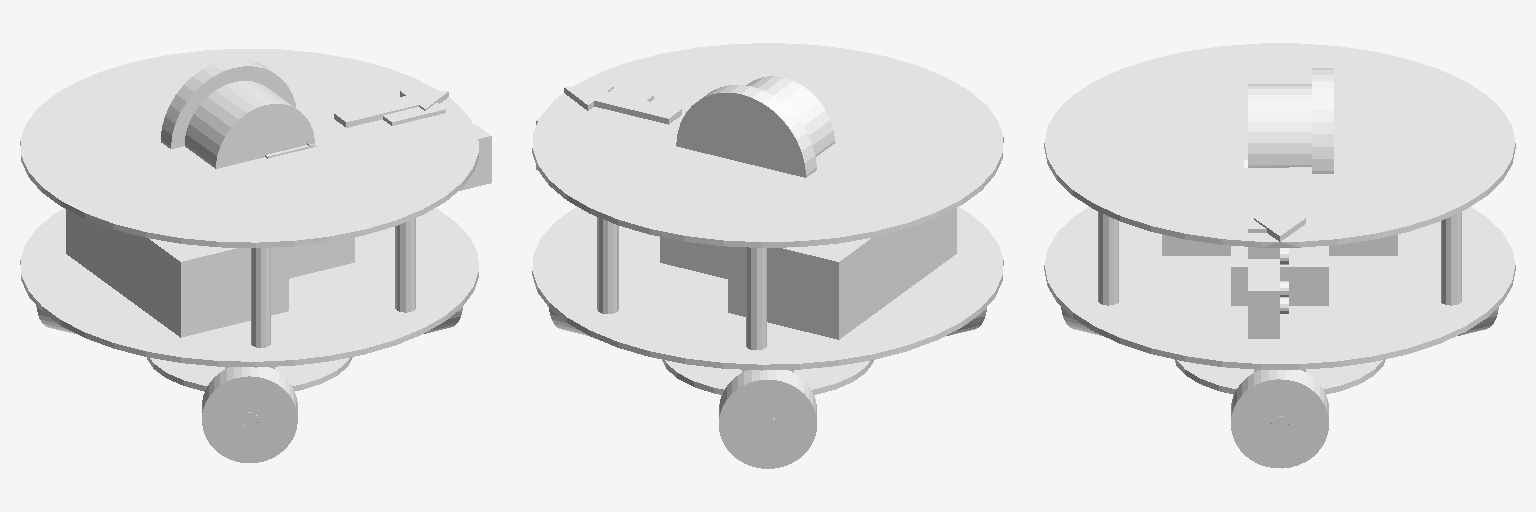
The robot description file, URDF, robot "tribot_description":
<?xml version="1.0" encoding="utf-8"?>
<!-- This URDF was automatically created by SolidWorks to URDF Exporter! Originally created by [author] ([email redacted]) 
     Commit Version: 1.6.0-4-g7f85cfe  Build Version: 1.6.7995.38578
     For more information, please see http://wiki.ros.org/sw_urdf_exporter -->
<robot
  name="tribot_description">
  <link
    name="base_link">
    <inertial>
      <origin
        xyz="-0.0142603857901154 0.0599787969233426 1.44010907857361E-17"
        rpy="0 0 0" />
      <mass
        value="0.664049355983333" />
      <inertia
        ixx="0.0018092011652393"
        ixy="5.86355846547153E-05"
        ixz="-6.25148858144493E-19"
        iyy="0.00242024125021245"
        iyz="6.82341546852814E-19"
        izz="0.00185445818753784" />
    </inertial>
    <visual>
      <origin
        xyz="0 0 0"
        rpy="0 0 0" />
      <geometry>
        <mesh
          filename="package://tribot_description/meshes/base_link.STL" />
      </geometry>
      <material
        name="">
        <color
          rgba="1 1 1 1" />
      </material>
    </visual>
    <collision>
      <origin
        xyz="0 0 0"
        rpy="0 0 0" />
      <geometry>
        <mesh
          filename="package://tribot_description/meshes/base_link.STL" />
      </geometry>
    </collision>
  </link>

  <link
    name="wheel1_link">
    <inertial>
      <origin
        xyz="-7.80625564189563E-18 0.00749999999999999 3.46944695195361E-18"
        rpy="0 0 0" />
      <mass
        value="0.0241745554693735" />
      <inertia
        ixx="3.74705609775289E-06"
        ixy="-8.52717906119514E-23"
        ixz="2.11758236813575E-22"
        iyy="6.58756636540427E-06"
        iyz="-4.61715353010736E-22"
        izz="3.74705609775289E-06" />
    </inertial>
    <visual>
      <origin
        xyz="0 0 0"
        rpy="0 0 0" />
      <geometry>
        <mesh
          filename="package://tribot_description/meshes/wheel1_link.STL" />
      </geometry>
      <material
        name="">
        <color
          rgba="1 1 1 1" />
      </material>
    </visual>
    <collision>
      <origin
        xyz="0 0 0"
        rpy="0 0 0" />
      <geometry>
        <mesh
          filename="package://tribot_description/meshes/wheel1_link.STL" />
      </geometry>
    </collision>
  </link>
  <joint
    name="wheel1_joint"
    type="continuous">
    <origin
      xyz="0.09 0 0.013"
      rpy="-3.14159265358979 0.437782614461058 1.5707963267949" />
    <parent
      link="base_link" />
    <child
      link="wheel1_link" />
    <axis
      xyz="0 1 0" />
  </joint>

  <link
    name="wheel2_link">
    <inertial>
      <origin
        xyz="1.56125112837913E-17 -0.0354359291783573 2.08166817117217E-17"
        rpy="0 0 0" />
      <mass
        value="0.0241745554693735" />
      <inertia
        ixx="3.74705609775289E-06"
        ixy="-1.05879118406788E-22"
        ixz="4.76456032830544E-22"
        iyy="6.58756636540427E-06"
        iyz="-6.35274710440725E-22"
        izz="3.74705609775289E-06" />
    </inertial>
    <visual>
      <origin
        xyz="0 0 0"
        rpy="0 0 0" />
      <geometry>
        <mesh
          filename="package://tribot_description/meshes/wheel2_link.STL" />
      </geometry>
      <material
        name="">
        <color
          rgba="1 1 1 1" />
      </material>
    </visual>
    <collision>
      <origin
        xyz="0 0 0"
        rpy="0 0 0" />
      <geometry>
        <mesh
          filename="package://tribot_description/meshes/wheel2_link.STL" />
      </geometry>
    </collision>
  </link>
  <joint
    name="wheel2_joint"
    type="continuous">
    <origin
      xyz="-0.0310320354108216 0.053749061993819 0.013"
      rpy="0 0.656633921478255 -2.61799387799149" />
    <parent
      link="base_link" />
    <child
      link="wheel2_link" />
    <axis
      xyz="0 -1 0" />
  </joint>

  <link
    name="wheel3_link">
    <inertial>
      <origin
        xyz="-3.46944695195361E-18 -0.00375000000000011 1.73472347597681E-17"
        rpy="0 0 0" />
      <mass
        value="0.0241745554693735" />
      <inertia
        ixx="3.74705609775289E-06"
        ixy="-4.76456032830544E-22"
        ixz="2.91167575618666E-22"
        iyy="6.58756636540428E-06"
        iyz="-1.37642853928824E-21"
        izz="3.74705609775289E-06" />
    </inertial>
    <visual>
      <origin
        xyz="0 0 0"
        rpy="0 0 0" />
      <geometry>
        <mesh
          filename="package://tribot_description/meshes/wheel3_link.STL" />
      </geometry>
      <material
        name="">
        <color
          rgba="1 1 1 1" />
      </material>
    </visual>
    <collision>
      <origin
        xyz="0 0 0"
        rpy="0 0 0" />
      <geometry>
        <mesh
          filename="package://tribot_description/meshes/wheel3_link.STL" />
      </geometry>
    </collision>
  </link>
  <joint
    name="wheel3_joint"
    type="continuous">
    <origin
      xyz="-0.0468749999999992 -0.0811898816047915 0.013"
      rpy="0 0.98745546738505 -0.52359877559829" />
    <parent
      link="base_link" />
    <child
      link="wheel3_link" />
    <axis
      xyz="0 -1 0" />
  </joint>

  <link
    name="lidar_link">
    <inertial>
      <origin
        xyz="1.36434720762685E-05 0.0180105175170171 3.7540882202375E-19"
        rpy="0 0 0" />
      <mass
        value="0.109869393334793" />
      <inertia
        ixx="4.09822179723856E-05"
        ixy="-3.44612342419914E-08"
        ixz="9.88106304040592E-23"
        iyy="5.0549647269255E-05"
        iyz="4.05894620495472E-21"
        izz="4.1009202270821E-05" />
    </inertial>
    <visual>
      <origin
        xyz="0 0 0"
        rpy="0 0 0" />
      <geometry>
        <mesh
          filename="package://tribot_description/meshes/lidar_link.STL" />
      </geometry>
      <material
        name="">
        <color
          rgba="1 1 1 1" />
      </material>
    </visual>
    <collision>
      <origin
        xyz="0 0 0"
        rpy="0 0 0" />
      <geometry>
        <mesh
          filename="package://tribot_description/meshes/lidar_link.STL" />
      </geometry>
    </collision>
  </link>
  <joint
    name="lidar_joint"
    type="fixed">
    <origin
      xyz="0 0 0.109"
      rpy="1.5707963267949 0 0" />
    <parent
      link="base_link" />
    <child
      link="lidar_link" />
    <axis
      xyz="0 0 0" />
  </joint>
  
  <link
    name="camera_link">
    <inertial>
      <origin
        xyz="9.73715840950623E-05 0.00766324059686525 0.00320483732373046"
        rpy="0 0 0" />
      <mass
        value="0.0351031857894892" />
      <inertia
        ixx="4.87742489758018E-06"
        ixy="-3.19135366871549E-08"
        ixz="1.09543032106934E-08"
        iyy="2.07013958270657E-05"
        iyz="1.83645671473405E-08"
        izz="1.72263336361694E-05" />
    </inertial>
    <visual>
      <origin
        xyz="0 0 0"
        rpy="0 0 0" />
      <geometry>
        <mesh
          filename="package://tribot_description/meshes/camera_link.STL" />
      </geometry>
      <material
        name="">
        <color
          rgba="1 1 1 1" />
      </material>
    </visual>
    <collision>
      <origin
        xyz="0 0 0"
        rpy="0 0 0" />
      <geometry>
        <mesh
          filename="package://tribot_description/meshes/camera_link.STL" />
      </geometry>
    </collision>
  </link>
  <joint
    name="camera_joint"
    type="fixed">
    <origin
      xyz="0.085 0 0.0785"
      rpy="3.14159265358979 0 1.5707963267949" />
    <parent
      link="base_link" />
    <child
      link="camera_link" />
    <axis
      xyz="0 0 0" />
  </joint>
</robot>

--- Facts derived from the render (not from the file) ---
The picture shows the robot from 3 angles, left to right: view 1: azimuth 30°, elevation 25°; view 2: azimuth 150°, elevation 25°; view 3: azimuth 270°, elevation 25°; orthographic projection.
Robot: tribot_description — 6 links, 5 joints (3 continuous, 2 fixed); root link base_link; default pose: all joints at 0.
Links seen in each view (by area): view 1: base_link, lidar_link, wheel3_link, camera_link; view 2: base_link, lidar_link, wheel2_link; view 3: base_link, wheel1_link, lidar_link, camera_link.
Boxes of the visible links, x1,y1,x2,y2 form: base_link: [20, 49, 478, 426]; lidar_link: [161, 59, 316, 168]; wheel3_link: [202, 367, 297, 462]; camera_link: [383, 103, 491, 190]; base_link: [532, 43, 1003, 431]; lidar_link: [676, 76, 834, 177]; wheel2_link: [719, 370, 816, 468]; base_link: [1044, 43, 1515, 431]; wheel1_link: [1231, 370, 1328, 468]; lidar_link: [1244, 68, 1333, 173]; camera_link: [1248, 202, 1288, 338].
Bounding box of the posed robot: 0.2346 × 0.22 × 0.154 m (x, y, z).
6 mesh visuals loaded from 6 distinct referenced files (6 binary STL).